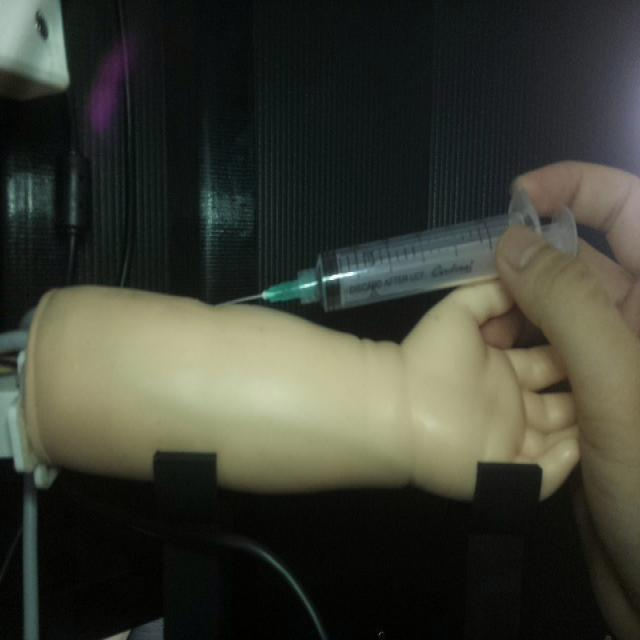Below 15 degrees: (216, 188, 579, 315)
